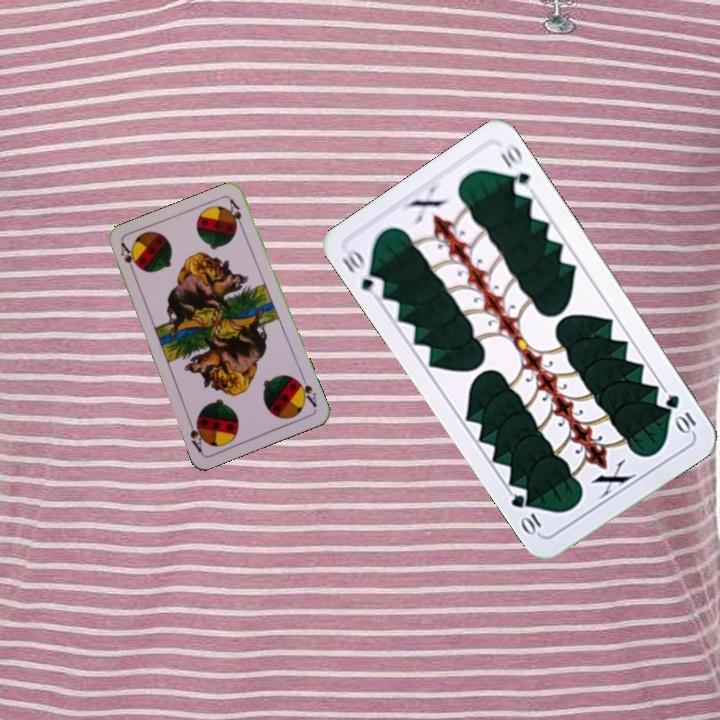G10: (338, 246, 388, 295), (661, 390, 699, 437)
SA: (292, 371, 320, 410), (117, 239, 140, 278)
